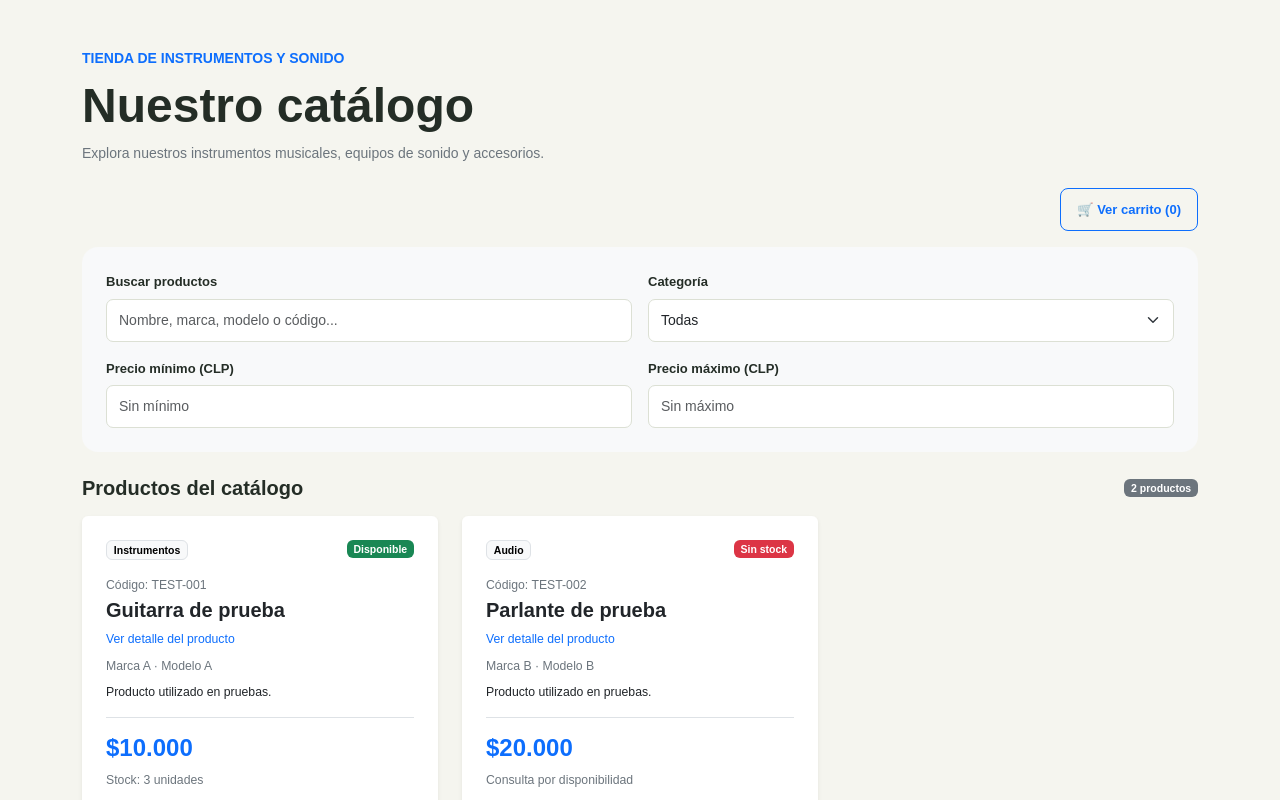
Test: CatalogoPage › limpia búsqueda, categoría y filtros de precio
Type "5000" into the number field labelled "Precio máximo (CLP)". click: (911, 407)
box: [648,385,1174,428]
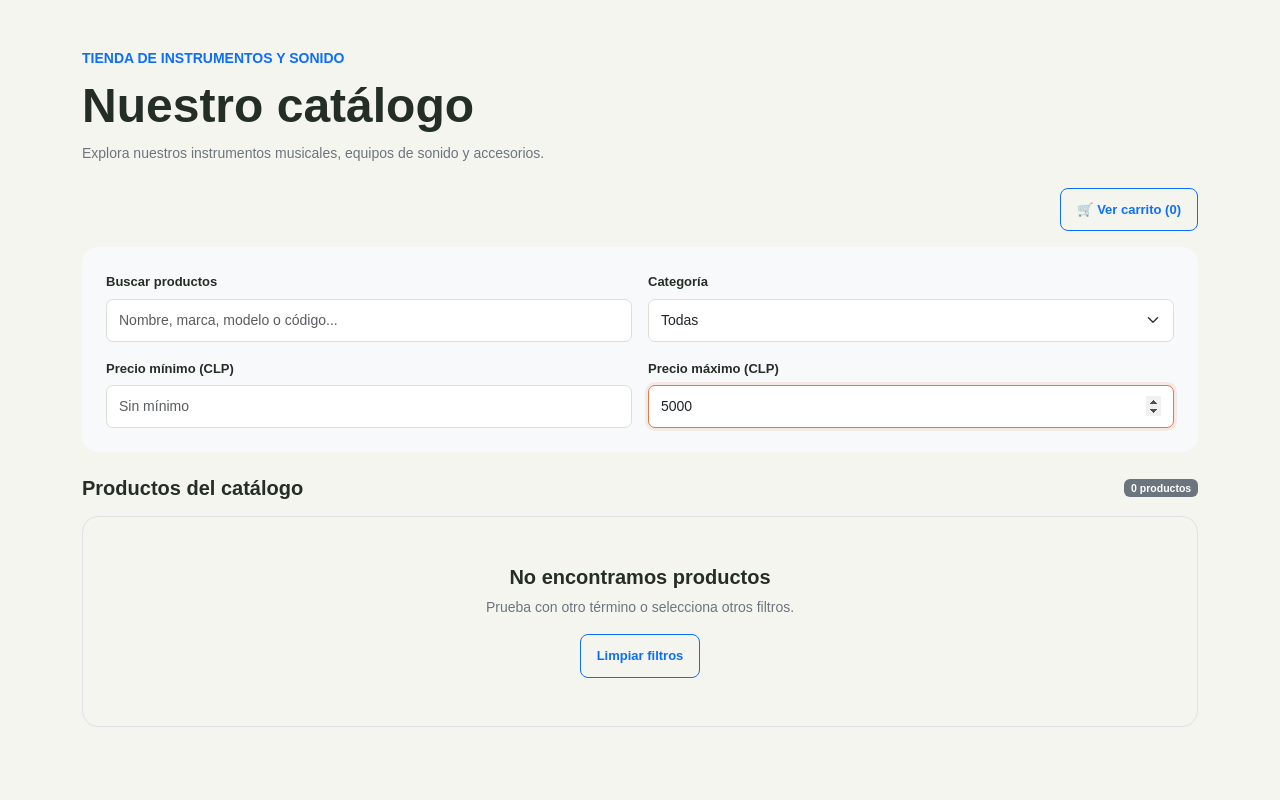
Click the button "Limpiar filtros". click: (640, 656)
box: [580,634,700,678]
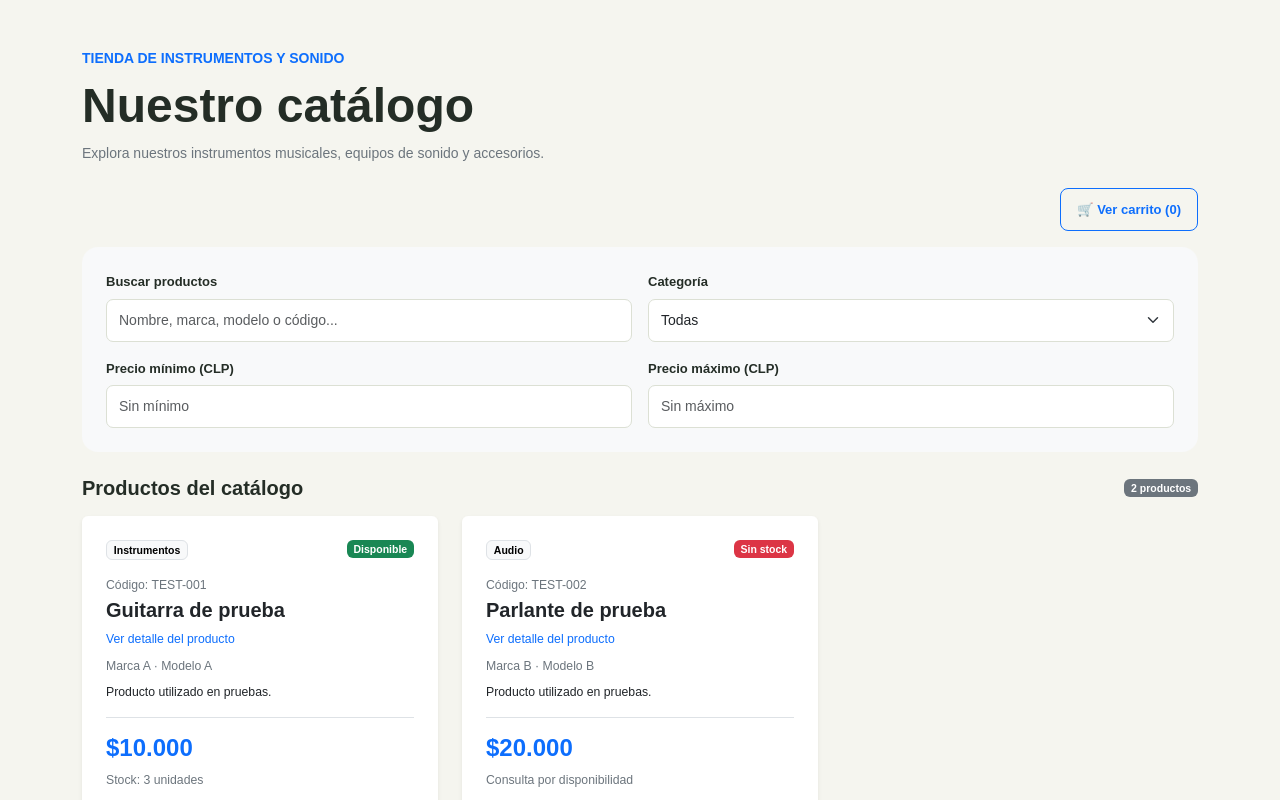
Expected: the dropdown labelled "Categoría" shows "Todas", [648,299,1174,342]
Result: the number field labelled "Precio máximo (CLP)" is empty at [648,385,1174,428]
Result: the number of headings named "ver detalle de" is 2 at [106,599,285,621]; [486,599,666,621]
